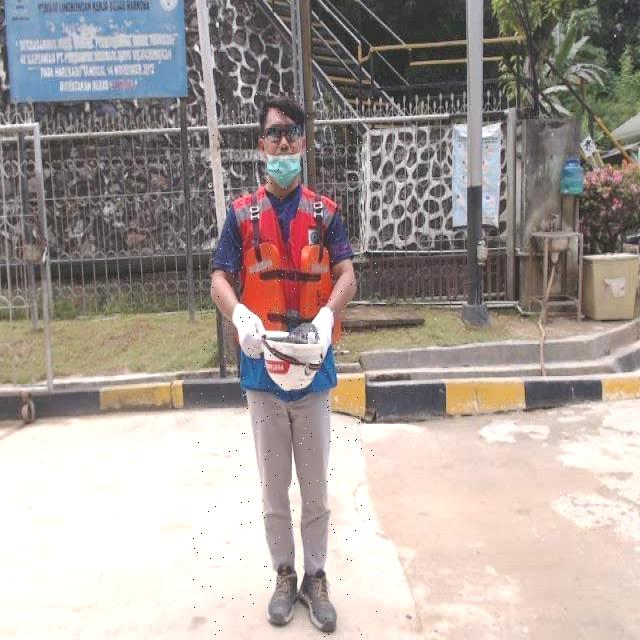gloves: (308, 296, 356, 362), (230, 290, 266, 366)
helmet: (261, 326, 323, 397)
no-boots: (300, 560, 341, 633), (268, 560, 299, 628)
no-helmet: (243, 103, 317, 184)
vest: (231, 186, 340, 393)
